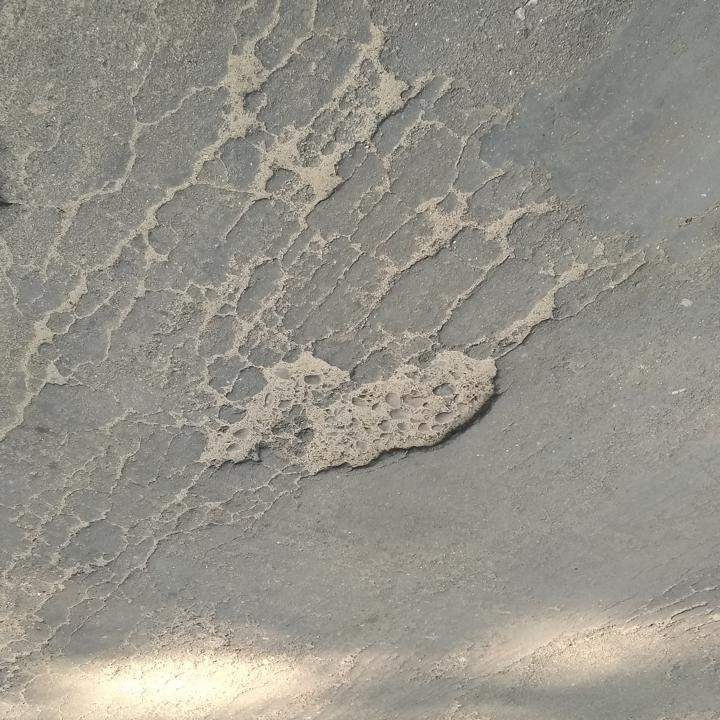pothole: (194, 341, 507, 480)
